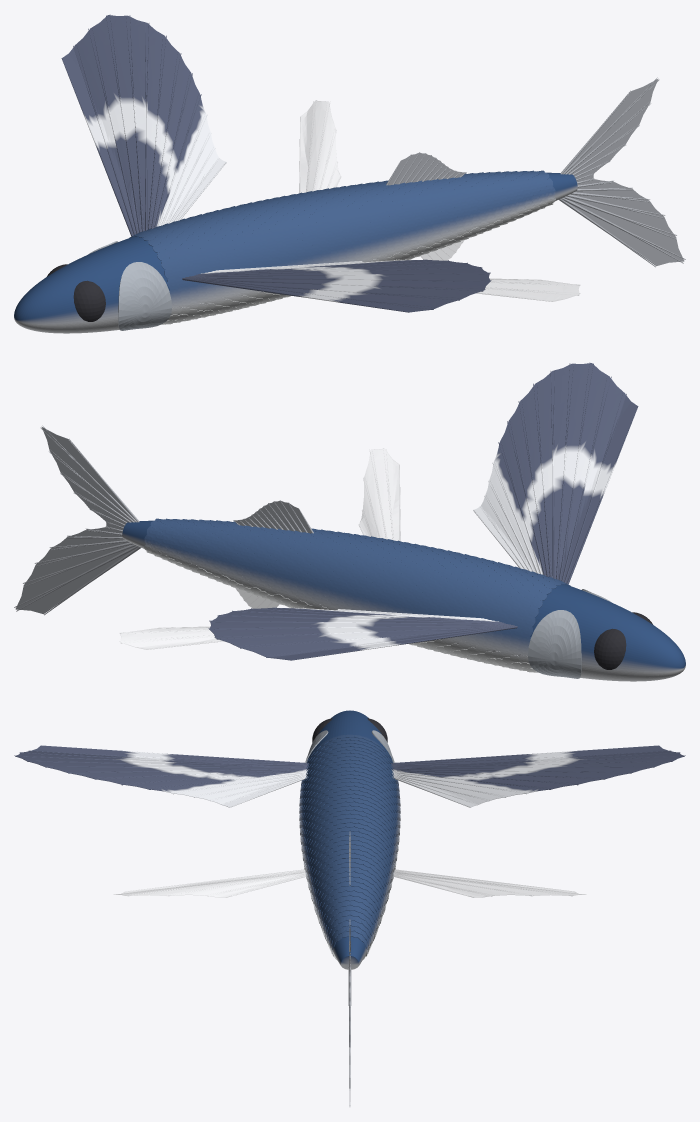
File: fish-adult-fao.glb
3 renders of one model, top to bottom at view 1: azimuth 30°, elevation 25°; view 2: azimuth 150°, elevation 25°; view 3: azimuth 270°, elevation 25°, orthographic. The views are drawn at different scales.
Visible parts, largest first — view 1: scales, pectoral_L, pectoral_R, caudal, body, pelvic_L, operculum_R, pelvic_R, dorsal, eye_R; view 2: scales, pectoral_R, pectoral_L, caudal, body, pelvic_R, operculum_L, pelvic_L, dorsal, eye_L; view 3: scales, pectoral_L, pectoral_R, body, pelvic_L, pelvic_R.
Boxes of the visible parts, <box> form: scales: <box>129,170,555,324</box>; pectoral_L: <box>61,14,226,236</box>; pectoral_R: <box>182,259,491,312</box>; caudal: <box>559,77,685,267</box>; body: <box>14,172,577,333</box>; pelvic_L: <box>299,100,341,193</box>; operculum_R: <box>118,262,171,330</box>; pelvic_R: <box>476,278,580,301</box>; dorsal: <box>386,152,466,185</box>; eye_R: <box>73,280,105,321</box>; scales: <box>144,518,570,672</box>; pectoral_R: <box>473,362,638,584</box>; pectoral_L: <box>208,607,517,660</box>; caudal: <box>14,425,140,615</box>; body: <box>122,520,685,681</box>; pelvic_R: <box>358,448,400,541</box>; operculum_L: <box>528,610,581,678</box>; pelvic_L: <box>119,626,223,649</box>; dorsal: <box>233,500,313,533</box>; eye_L: <box>594,628,626,669</box>; scales: <box>299,734,400,960</box>; pectoral_L: <box>391,745,685,807</box>; pectoral_R: <box>14,745,308,807</box>; body: <box>301,710,398,969</box>; pelvic_L: <box>394,869,586,897</box>; pelvic_R: <box>113,869,305,897</box>.
Size of the model in its own units: 0.1912 by 0.0563 by 0.1864.
